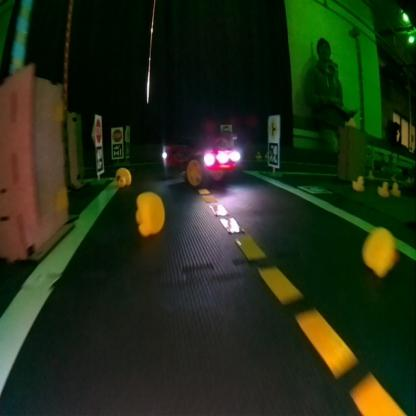Duckie: (361, 228, 394, 276), (135, 192, 163, 234), (116, 168, 132, 186), (377, 180, 387, 195)
Duckiebot: (160, 141, 236, 185)
Intersection sign: (268, 117, 279, 138)
QR code: (268, 144, 277, 165), (111, 143, 122, 157)
Stop sign: (111, 128, 122, 140)
